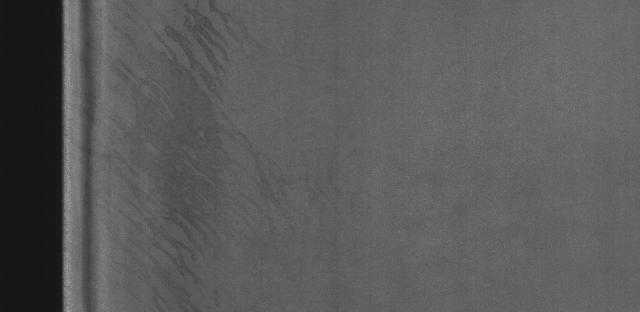water_spot: (102, 5, 275, 312)
